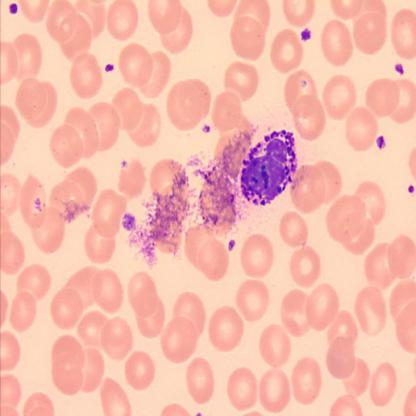Basophil: (238, 128, 303, 207)
